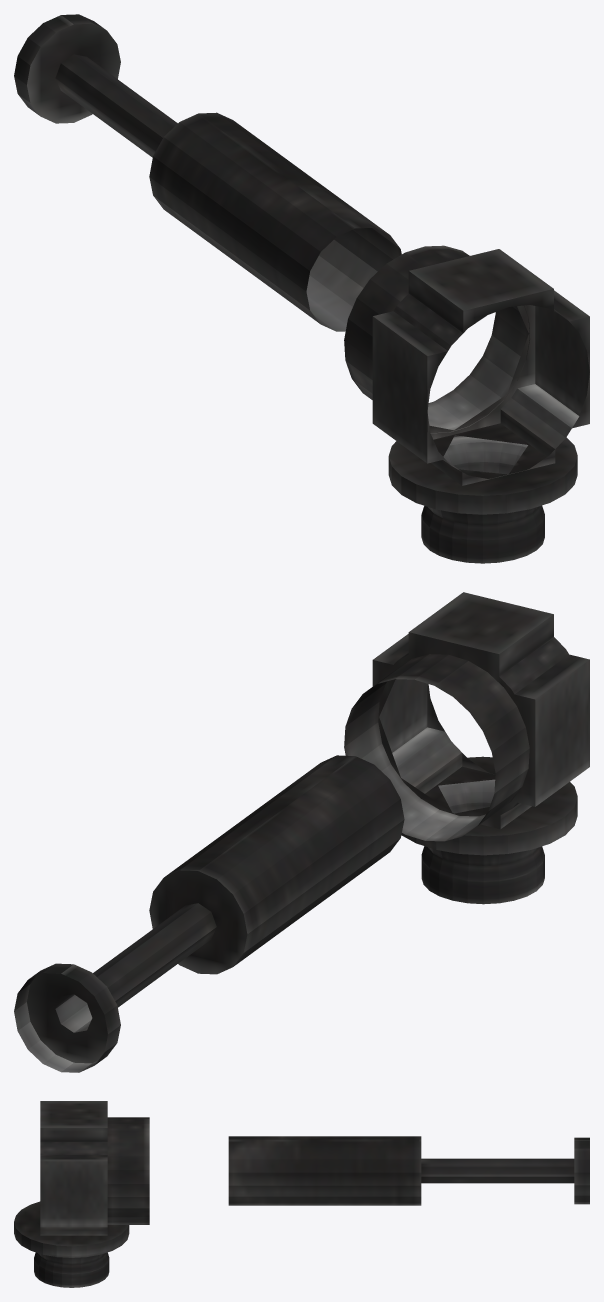
3 renders of one model, top to bottom at view 1: azimuth 30°, elevation 25°; view 2: azimuth 150°, elevation 25°; view 3: azimuth 270°, elevation 25°, orthographic. The views are drawn at different scales.
Visible parts, largest first — view 1: TW_661ceb1b9311543c7104149b_PZ_Import; view 2: TW_661ceb1b9311543c7104149b_PZ_Import; view 3: TW_661ceb1b9311543c7104149b_PZ_Import.
Boxes of the visible parts, x1,y1,x2,y2 form: TW_661ceb1b9311543c7104149b_PZ_Import: (14,14,589,563); TW_661ceb1b9311543c7104149b_PZ_Import: (14,592,589,1072); TW_661ceb1b9311543c7104149b_PZ_Import: (14,1101,589,1287).
Size of the model in its own units: 0.0112 by 0.0555 by 0.0167.
Materials: 1 (1 with a texture image).
